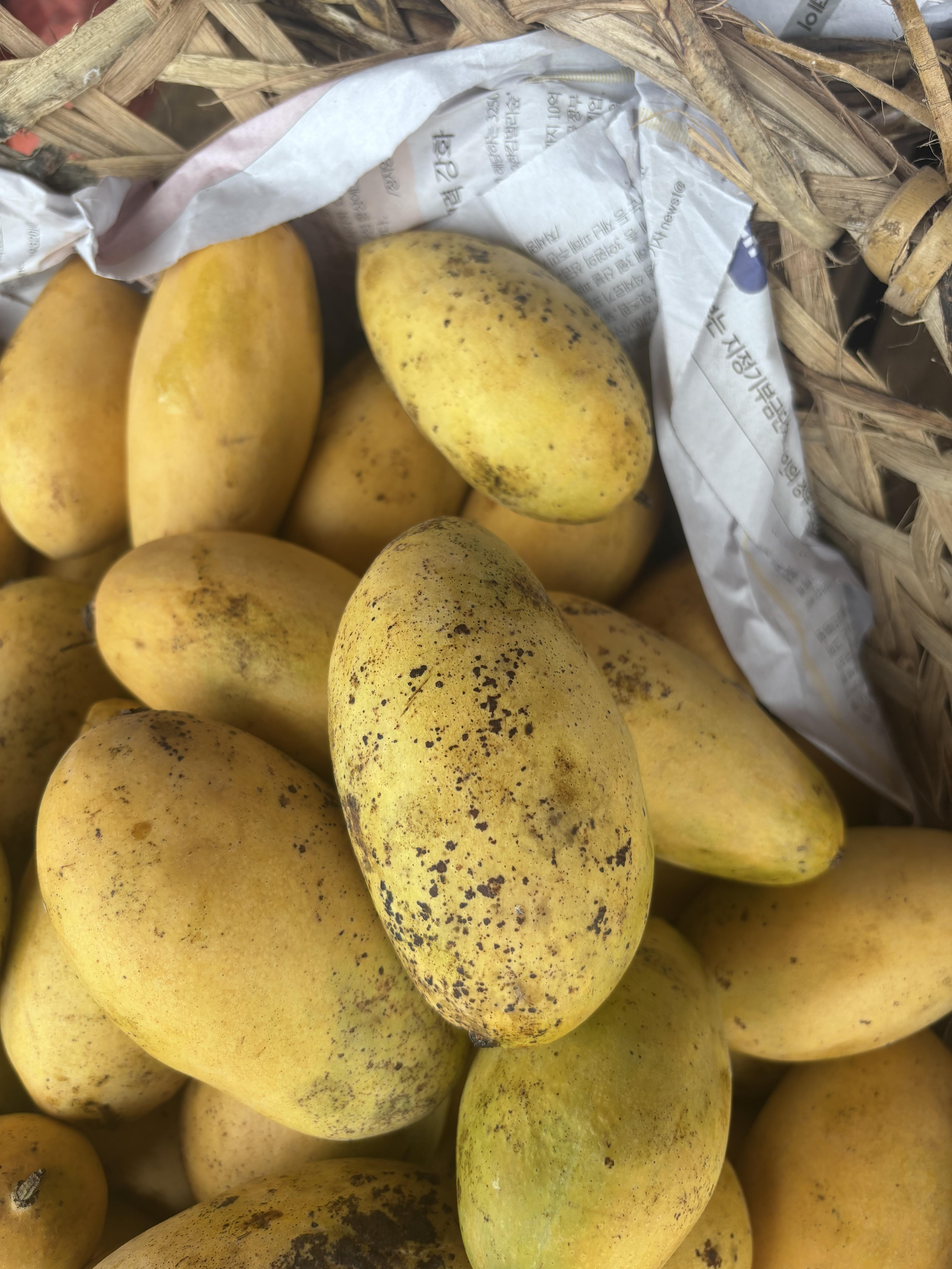mango: (330, 517, 653, 1049), (94, 1158, 470, 1269)
